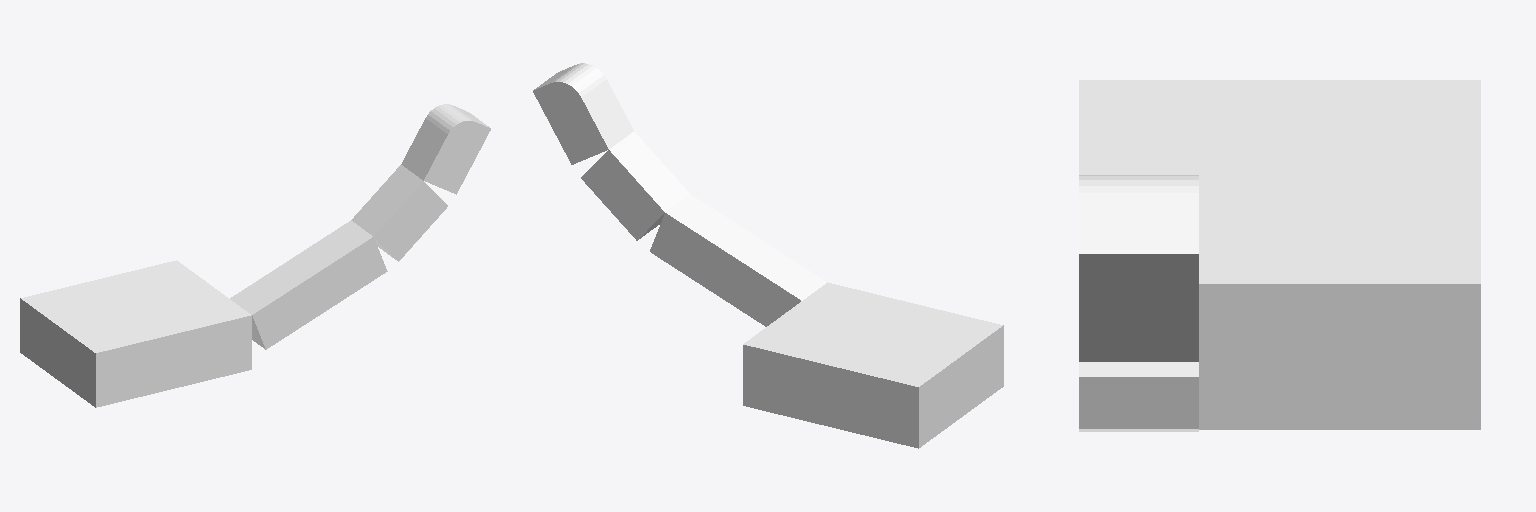
The robot description file, URDF, robot "urdf_module":
<?xml version="1.0" encoding="utf-8"?>
<!-- This URDF was automatically created by SolidWorks to URDF Exporter! Originally created by [author] ([email redacted]) 
     Commit Version: 1.6.0-1-g15f4949  Build Version: 1.6.7594.29634
     For more information, please see http://wiki.ros.org/sw_urdf_exporter -->
<robot
  name="urdf_module">
  <link
    name="base_link">
    <inertial>
      <origin
        xyz="0.03 -3.46944695195361E-18 -0.01"
        rpy="0 0 0" />
      <mass
        value="0.06" />
      <inertia
        ixx="1.45E-05"
        ixy="7.83401467373784E-22"
        ixz="2.5787451850632E-22"
        iyy="2E-05"
        iyz="5.99787041618627E-38"
        izz="3.05E-05" />
    </inertial>
    <visual>
      <origin
        xyz="0 0 0"
        rpy="0 0 0" />
      <geometry>
        <mesh
          filename="package://urdf_module/meshes/base_link.STL" />
      </geometry>
      <material
        name="">
        <color
          rgba="1 1 1 1" />
      </material>
    </visual>
    <collision>
      <origin
        xyz="0 0 0"
        rpy="0 0 0" />
      <geometry>
        <mesh
          filename="package://urdf_module/meshes/base_link.STL" />
      </geometry>
    </collision>
  </link>
  <link
    name="PALM">
    <inertial>
      <origin
        xyz="0.03 -3.46944695195361E-18 -0.01"
        rpy="0 0 0" />
      <mass
        value="0.06" />
      <inertia
        ixx="1.45E-05"
        ixy="7.83401467373784E-22"
        ixz="2.5787451850632E-22"
        iyy="2E-05"
        iyz="5.99787041618627E-38"
        izz="3.05E-05" />
    </inertial>
    <visual>
      <origin
        xyz="0 0 0"
        rpy="0 0 0" />
      <geometry>
        <mesh
          filename="package://urdf_module/meshes/PALM.STL" />
      </geometry>
      <material
        name="">
        <color
          rgba="1 1 1 1" />
      </material>
    </visual>
    <collision>
      <origin
        xyz="0 0 0"
        rpy="0 0 0" />
      <geometry>
        <mesh
          filename="package://urdf_module/meshes/PALM.STL" />
      </geometry>
    </collision>
  </link>
  <joint
    name="palm"
    type="fixed">
    <origin
      xyz="0 0 0"
      rpy="0 0 0" />
    <parent
      link="base_link" />
    <child
      link="PALM" />
    <axis
      xyz="0 0 0" />
  </joint>
  <link
    name="INDEX_MCP_PALM">
    <inertial>
      <origin
        xyz="0.025 0 -0.00750000000000001"
        rpy="0 0 0" />
      <mass
        value="0.01125" />
      <inertia
        ixx="4.21875E-07"
        ixy="1.46897335857982E-22"
        ixz="-6.08804930839028E-22"
        iyy="2.5546875E-06"
        iyz="8.72925860863832E-24"
        izz="2.5546875E-06" />
    </inertial>
    <visual>
      <origin
        xyz="0 0 0"
        rpy="0 0 0" />
      <geometry>
        <mesh
          filename="package://urdf_module/meshes/INDEX_MCP_PALM.STL" />
      </geometry>
      <material
        name="">
        <color
          rgba="1 1 1 1" />
      </material>
    </visual>
    <collision>
      <origin
        xyz="0 0 0"
        rpy="0 0 0" />
      <geometry>
        <mesh
          filename="package://urdf_module/meshes/INDEX_MCP_PALM.STL" />
      </geometry>
    </collision>
  </link>
  <joint
    name="index_mcp_palm"
    type="floating">
    <origin
      xyz="0.06 -0.0175 0"
      rpy="0 -0.36628 0" />
    <parent
      link="PALM" />
    <child
      link="INDEX_MCP_PALM" />
    <axis
      xyz="0 1 0" />
    <limit
      lower="-3.14"
      upper="3.14"
      effort="10"
      velocity="10" />
  </joint>
  <link
    name="INDEX_PIP_MCP">
    <inertial>
      <origin
        xyz="0.0125 -8.67361737988404E-19 -0.00749999999999999"
        rpy="0 0 0" />
      <mass
        value="0.005625" />
      <inertia
        ixx="2.109375E-07"
        ixy="4.01304672381693E-23"
        ixz="0"
        iyy="3.984375E-07"
        iyz="2.35097070546311E-23"
        izz="3.984375E-07" />
    </inertial>
    <visual>
      <origin
        xyz="0 0 0"
        rpy="0 0 0" />
      <geometry>
        <mesh
          filename="package://urdf_module/meshes/INDEX_PIP_MCP.STL" />
      </geometry>
      <material
        name="">
        <color
          rgba="1 1 1 1" />
      </material>
    </visual>
    <collision>
      <origin
        xyz="0 0 0"
        rpy="0 0 0" />
      <geometry>
        <mesh
          filename="package://urdf_module/meshes/INDEX_PIP_MCP.STL" />
      </geometry>
    </collision>
  </link>
  <joint
    name="index_pip_mcp"
    type="floating">
    <origin
      xyz="0.05 0 0"
      rpy="0 -0.32968 0" />
    <parent
      link="INDEX_MCP_PALM" />
    <child
      link="INDEX_PIP_MCP" />
    <axis
      xyz="0 1 0" />
    <limit
      lower="-3.14"
      upper="3.14"
      effort="10"
      velocity="10" />
  </joint>
  <link
    name="INDEX_DIP_PIP">
    <inertial>
      <origin
        xyz="0.0121399587970369 -8.67361737988404E-19 -0.00769373642902275"
        rpy="0 0 0" />
      <mass
        value="0.0054439297003666" />
      <inertia
        ixx="2.00836721278294E-07"
        ixy="2.87707034690326E-24"
        ixz="1.15857856437503E-08"
        iyy="3.69451082893236E-07"
        iyz="-2.91489079727678E-24"
        izz="3.72761725378689E-07" />
    </inertial>
    <visual>
      <origin
        xyz="0 0 0"
        rpy="0 0 0" />
      <geometry>
        <mesh
          filename="package://urdf_module/meshes/INDEX_DIP_PIP.STL" />
      </geometry>
      <material
        name="">
        <color
          rgba="1 1 1 1" />
      </material>
    </visual>
    <collision>
      <origin
        xyz="0 0 0"
        rpy="0 0 0" />
      <geometry>
        <mesh
          filename="package://urdf_module/meshes/INDEX_DIP_PIP.STL" />
      </geometry>
    </collision>
  </link>
  <joint
    name="index_dip_pip"
    type="floating">
    <origin
      xyz="0.025 0 0"
      rpy="0 -0.30936 0" />
    <parent
      link="INDEX_PIP_MCP" />
    <child
      link="INDEX_DIP_PIP" />
    <axis
      xyz="0 1 0" />
    <limit
      lower="-3.14"
      upper="3.14"
      effort="10"
      velocity="10" />
  </joint>
</robot>

--- Facts derived from the render (not from the file) ---
3 views of the same robot in one strip: view 1: azimuth 30°, elevation 25°; view 2: azimuth 150°, elevation 25°; view 3: azimuth 270°, elevation 25° (orthographic).
Robot: urdf_module — 5 links, 4 joints (1 fixed, 3 floating); root link base_link; default pose: every joint at zero.
Links seen in each view (by area): view 1: PALM, INDEX_MCP_PALM, INDEX_DIP_PIP, INDEX_PIP_MCP; view 2: PALM, INDEX_MCP_PALM, INDEX_DIP_PIP, INDEX_PIP_MCP; view 3: PALM, INDEX_DIP_PIP, INDEX_PIP_MCP.
Boxes of the visible links, left/top/right/bottom form: PALM: left=20, top=260, right=251, bottom=407; INDEX_MCP_PALM: left=230, top=221, right=387, bottom=349; INDEX_DIP_PIP: left=401, top=104, right=490, bottom=194; INDEX_PIP_MCP: left=351, top=165, right=447, bottom=261; PALM: left=743, top=282, right=1003, bottom=448; INDEX_MCP_PALM: left=650, top=194, right=826, bottom=326; INDEX_DIP_PIP: left=533, top=63, right=633, bottom=164; INDEX_PIP_MCP: left=581, top=131, right=689, bottom=240; PALM: left=1079, top=80, right=1480, bottom=429; INDEX_DIP_PIP: left=1079, top=175, right=1198, bottom=361; INDEX_PIP_MCP: left=1079, top=362, right=1198, bottom=428.
Bounding box of the posed robot: 0.1519 × 0.05 × 0.0722 m (x, y, z).
4 mesh visuals loaded from 5 distinct referenced files (4 binary STL); not drawn: 1 (reference not matched to a file when rendering).